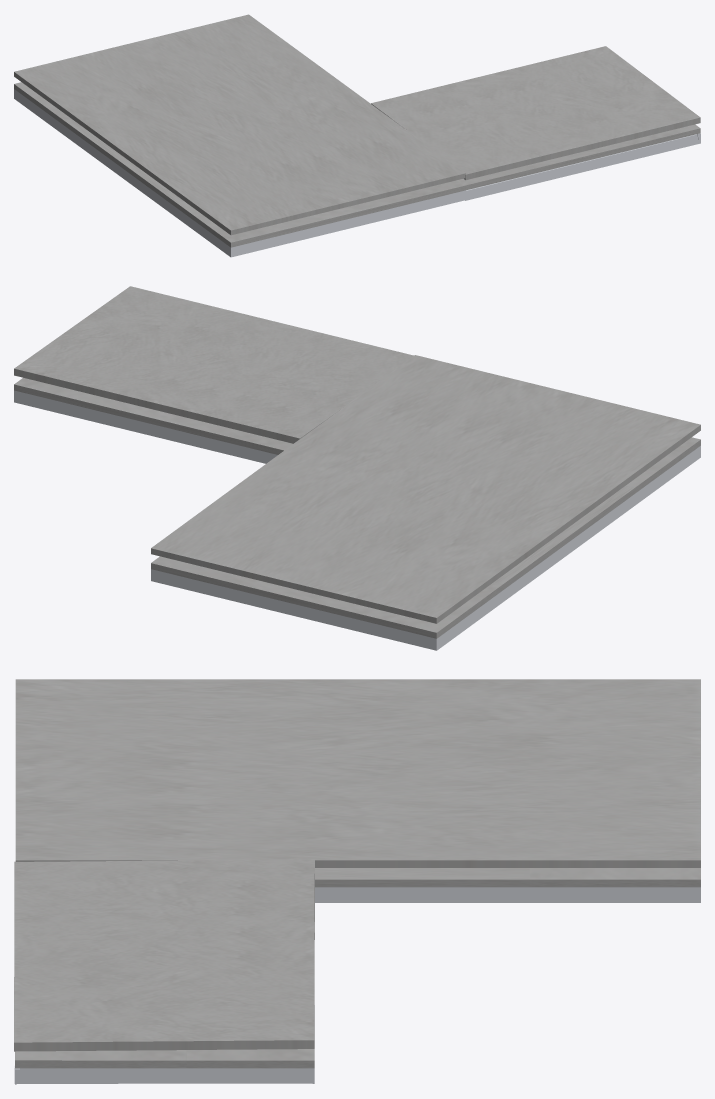
Rendered from Techo 1.fbx.
The picture shows the model from 3 angles, top to bottom: view 1: azimuth 30°, elevation 25°; view 2: azimuth 150°, elevation 25°; view 3: azimuth 270°, elevation 25°; orthographic projection. The views are drawn at different scales.
Parts seen in each view (by area): view 1: Techo; view 2: Techo; view 3: Techo.
Part boxes in pixels (bbox=[...]): Techo: bbox=[14, 14, 700, 257]; Techo: bbox=[14, 286, 700, 650]; Techo: bbox=[14, 679, 700, 1084].
Bounding box in the file's own units: 1000 × 57.95 × 802.
2 materials, 1 textured.
